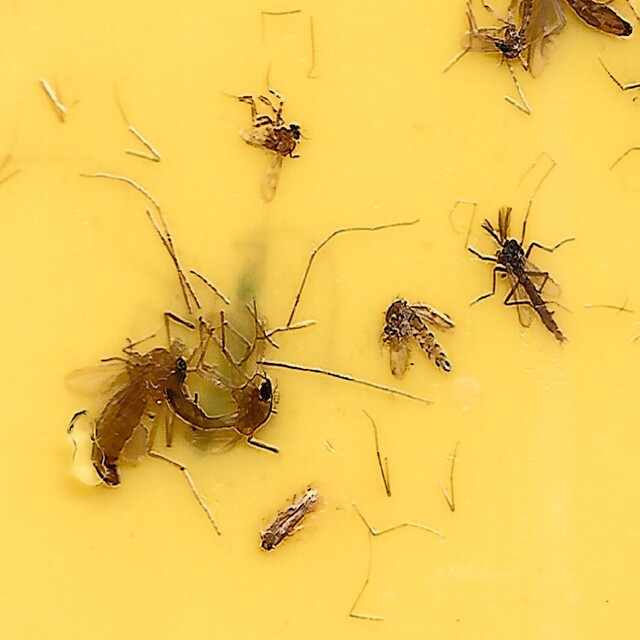Nematocera: (66, 330, 186, 493), (477, 203, 574, 352), (160, 316, 275, 440), (241, 84, 306, 202), (374, 293, 459, 380)
Trichoptera: (257, 485, 322, 556)
